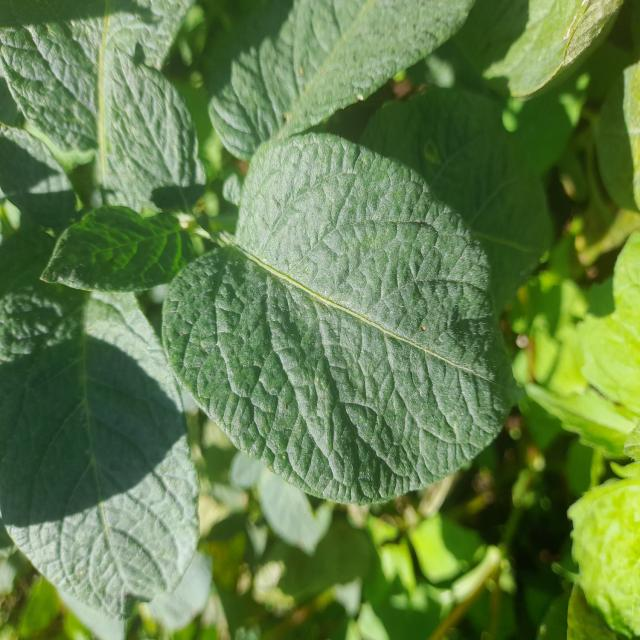healthy: (160, 130, 524, 507)
